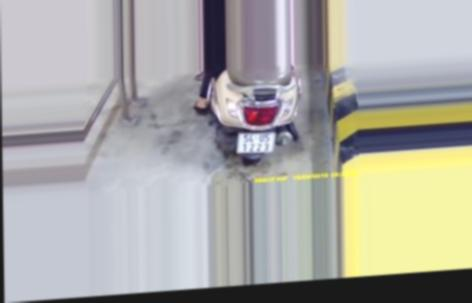License_Plate: (234, 127, 279, 159)
